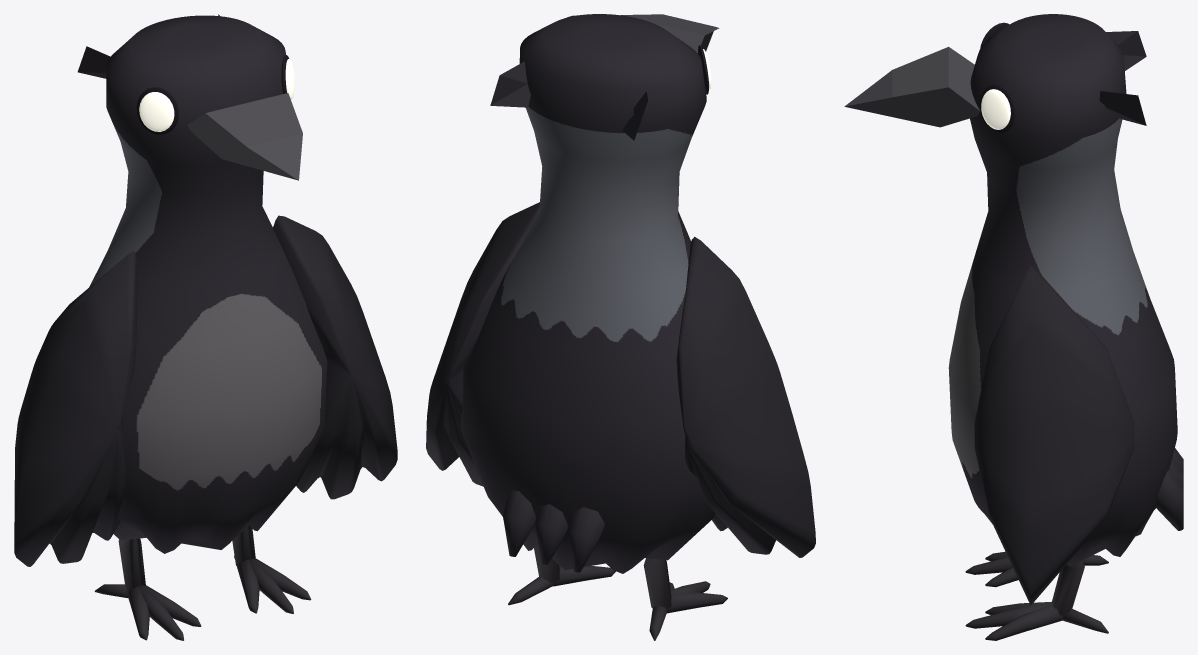
File: crow.glb
The picture shows the model from 3 angles, left to right: view 1: azimuth 30°, elevation 25°; view 2: azimuth 150°, elevation 25°; view 3: azimuth 270°, elevation 25°; orthographic projection.
Visible parts, largest first — view 1: Body and head | continuous shell, Wing L | feather coat, Wing R | feather coat, Beak | sculpted wedge, Eye L | ivory, Leg L, Foot R | toe 2, Foot L | toe 2, Foot L | toe 1, Foot R | toe 1, Nape feather L, Foot L | toe 3 (+3 smaller); view 2: Body and head | continuous shell, Wing L | feather coat, Wing R | feather coat, Tail feather 1, Tail feather 3, Beak | sculpted wedge, Tail feather 2, Nape feather R, Leg L, Foot L | toe 1, Foot R | toe 1; view 3: Body and head | continuous shell, Wing R | feather coat, Beak | sculpted wedge, Foot R | toe 3, Tail feather 3, Leg R, Nape feather R, Eye R | ivory, Nape feather L, Foot R | toe 2, Foot R | rear toe, Foot L | toe 2 (+1 smaller).
Boxes of the visible parts, left/top/right/bottom form: Body and head | continuous shell: left=89, top=15, right=327, bottom=553; Wing L | feather coat: left=14, top=251, right=137, bottom=566; Wing R | feather coat: left=273, top=215, right=397, bottom=499; Beak | sculpted wedge: left=187, top=93, right=302, bottom=180; Eye L | ivory: left=139, top=92, right=174, bottom=131; Leg L: left=118, top=538, right=145, bottom=593; Foot R | toe 2: left=249, top=559, right=293, bottom=613; Foot L | toe 2: left=139, top=586, right=183, bottom=640; Foot L | toe 1: left=127, top=586, right=149, bottom=640; Foot R | toe 1: left=237, top=559, right=259, bottom=613; Nape feather L: left=77, top=46, right=110, bottom=78; Foot L | toe 3: left=142, top=585, right=201, bottom=626; Body and head | continuous shell: left=460, top=14, right=715, bottom=573; Wing L | feather coat: left=676, top=236, right=815, bottom=557; Wing R | feather coat: left=426, top=202, right=539, bottom=486; Tail feather 1: left=567, top=507, right=604, bottom=572; Tail feather 3: left=503, top=490, right=536, bottom=556; Beak | sculpted wedge: left=620, top=14, right=719, bottom=53; Tail feather 2: left=535, top=504, right=568, bottom=564; Nape feather R: left=490, top=61, right=530, bottom=107; Leg L: left=643, top=558, right=671, bottom=608; Foot L | toe 1: left=667, top=592, right=727, bottom=613; Foot R | toe 1: left=553, top=566, right=615, bottom=586; Body and head | continuous shell: left=948, top=14, right=1177, bottom=566; Wing R | feather coat: left=974, top=263, right=1134, bottom=605; Beak | sculpted wedge: left=844, top=46, right=980, bottom=127; Foot R | toe 3: left=985, top=604, right=1063, bottom=640; Tail feather 3: left=1156, top=470, right=1183, bottom=530; Leg R: left=1051, top=561, right=1084, bottom=615; Nape feather R: left=1099, top=91, right=1146, bottom=125; Eye R | ivory: left=981, top=89, right=1010, bottom=129; Nape feather L: left=1106, top=31, right=1146, bottom=70; Foot R | toe 2: left=965, top=603, right=1051, bottom=628; Foot R | rear toe: left=1063, top=609, right=1108, bottom=633; Foot L | toe 2: left=965, top=557, right=1012, bottom=574.
Bounding box in the file's own units: 1.57 × 2.2 × 1.2.
Materials: 7 (1 with a texture image).
